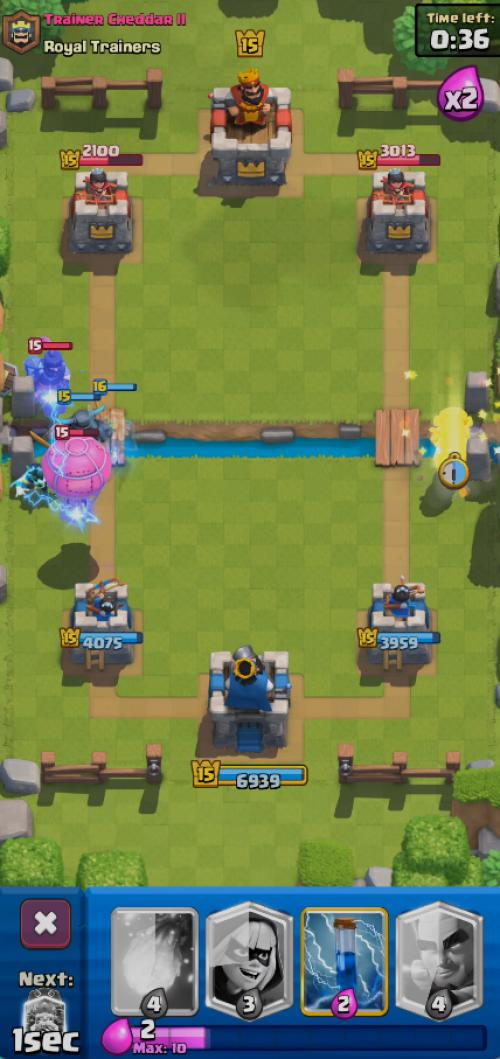Enemy-Balloon: (42, 435, 111, 529)
Enemy-DarkPrince: (25, 337, 69, 416)
Enemy-KingTower: (210, 69, 291, 189)
Enemy-PrincessTower: (363, 169, 430, 256), (69, 168, 132, 254)
